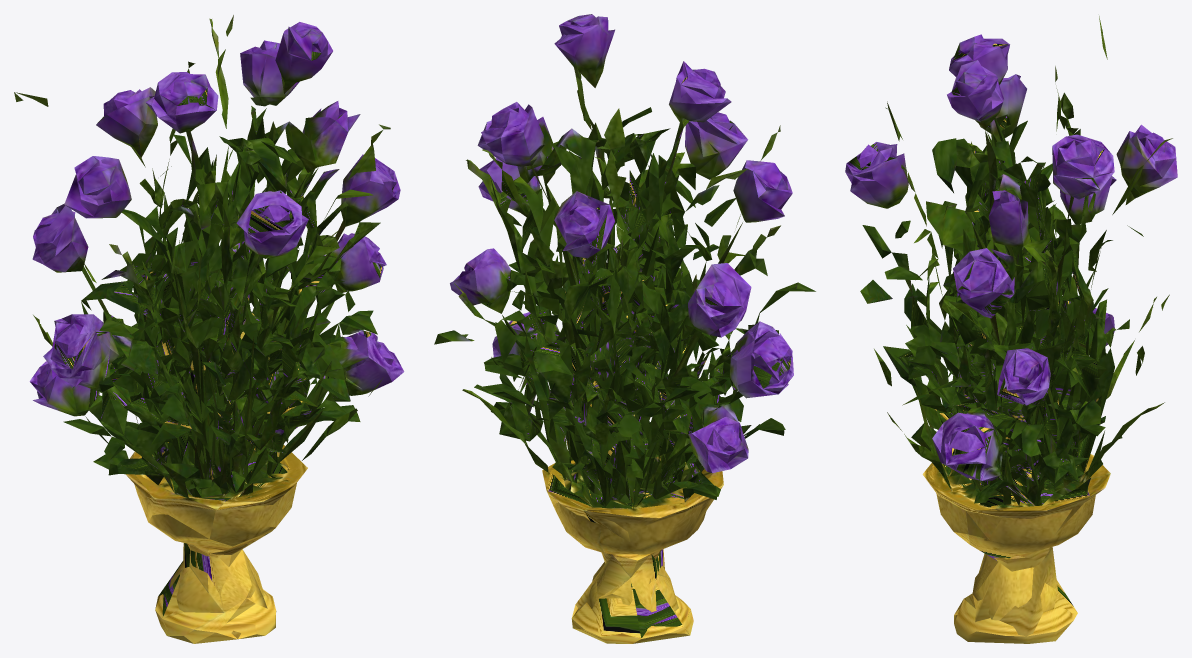
Rendered from w3purple.glb.
3 views of the same model, side by side, from view 1: azimuth 30°, elevation 25°; view 2: azimuth 150°, elevation 25°; view 3: azimuth 270°, elevation 25° (orthographic).
Visible parts, largest first — view 1: w3purple_near, w3purple_far; view 2: w3purple_near, w3purple_far; view 3: w3purple_near, w3purple_far.
Boxes of the visible parts, x1,y1,x2,y2 form: w3purple_near: (14,15,403,643); w3purple_far: (36,29,403,638); w3purple_near: (434,14,815,643); w3purple_far: (468,14,791,638); w3purple_near: (845,16,1177,643); w3purple_far: (847,41,1166,636).
Size of the model in its own units: 0.6466 by 1.1 by 0.5615.
1 material, 1 textured.
